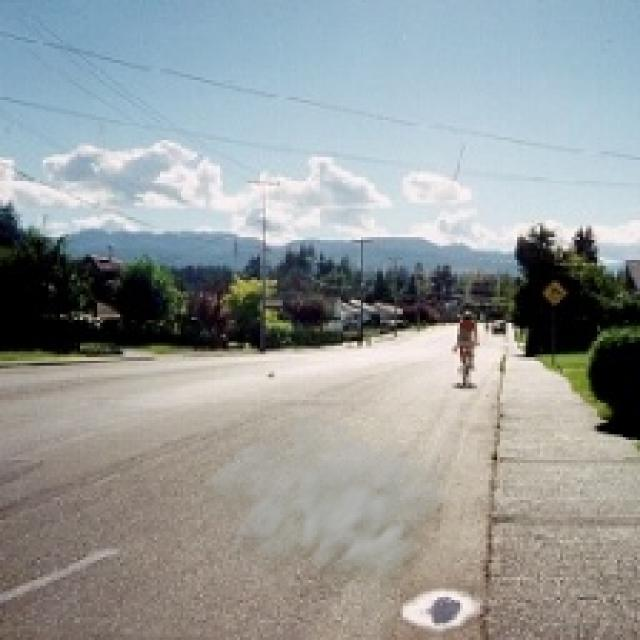smoke: (194, 408, 460, 612)
